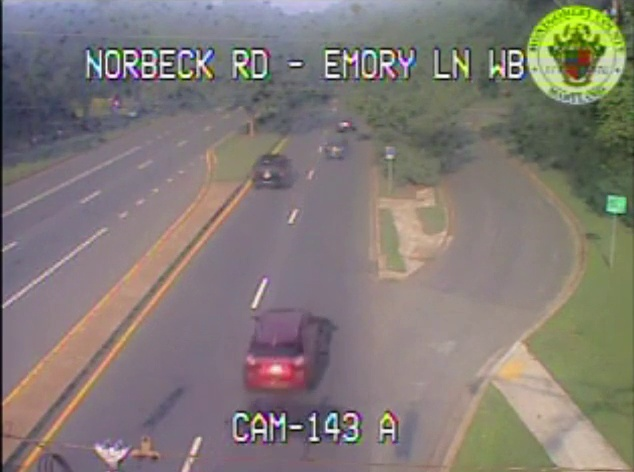car: (246, 310, 313, 391), (252, 154, 287, 189)
